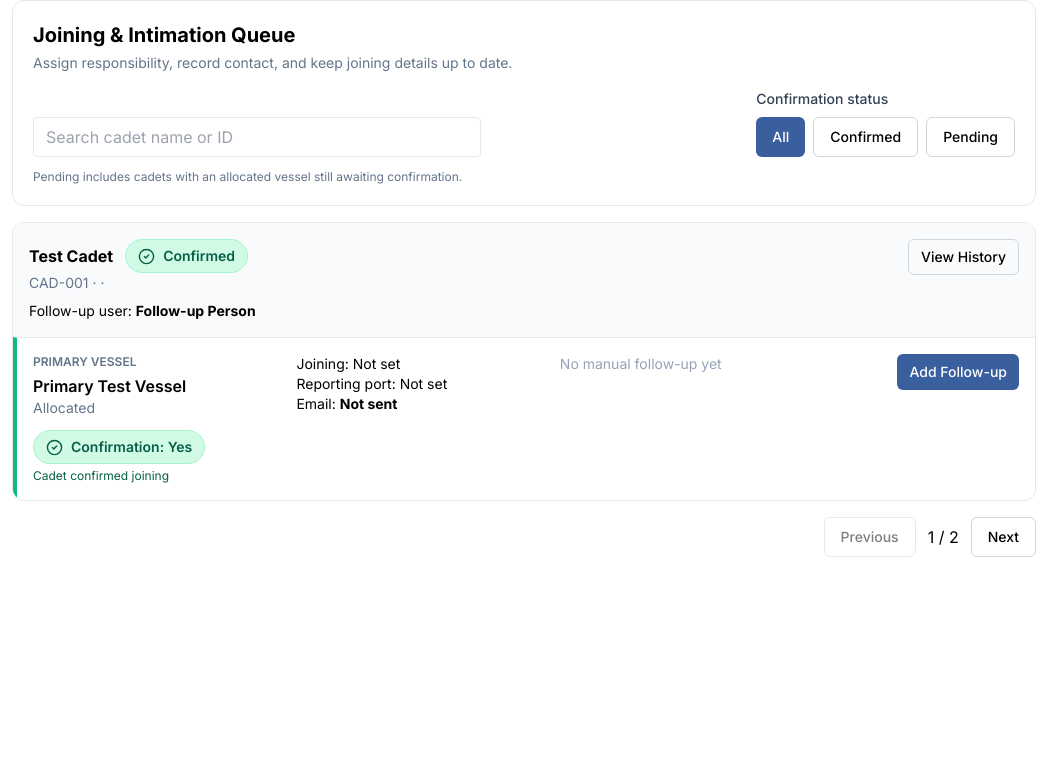
Test: filters across pages while retaining search and assignment scope (mine=false)
Expected: the heading "Test Cadet" is shown, [29,244,113,268]
Type "CAD" into the field named "Search follow-up cadets" at (257, 137), box [33,117,481,157]
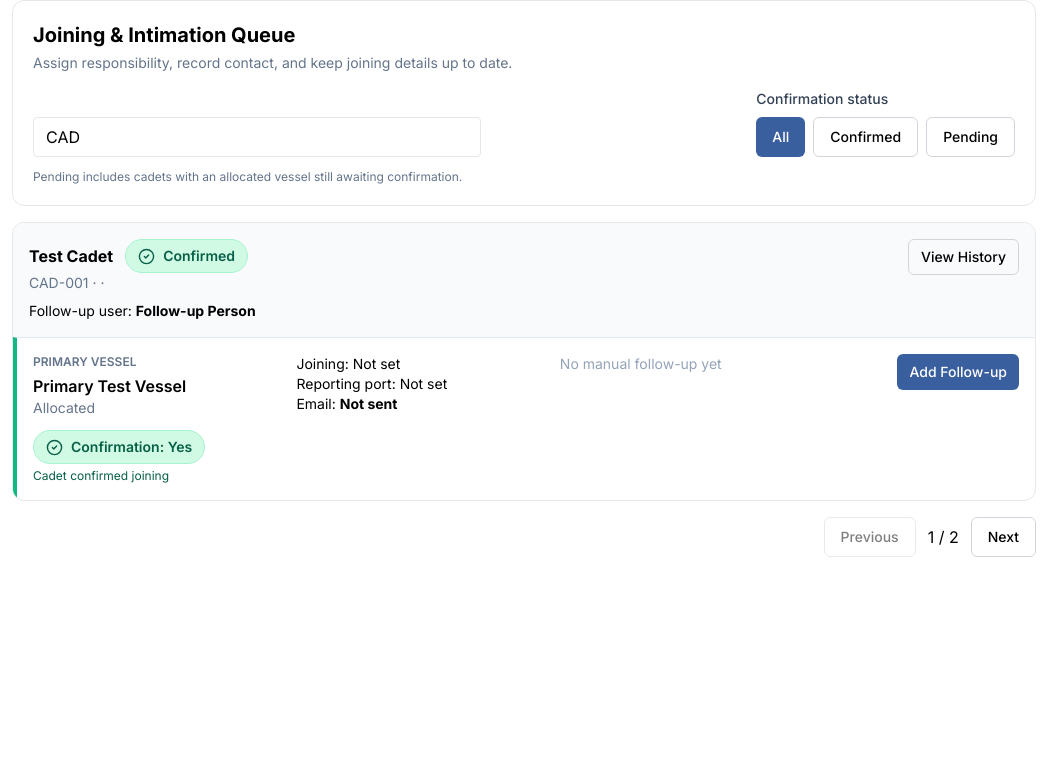
Click the button "Next" at (1003, 537), box [971,517,1036,557]
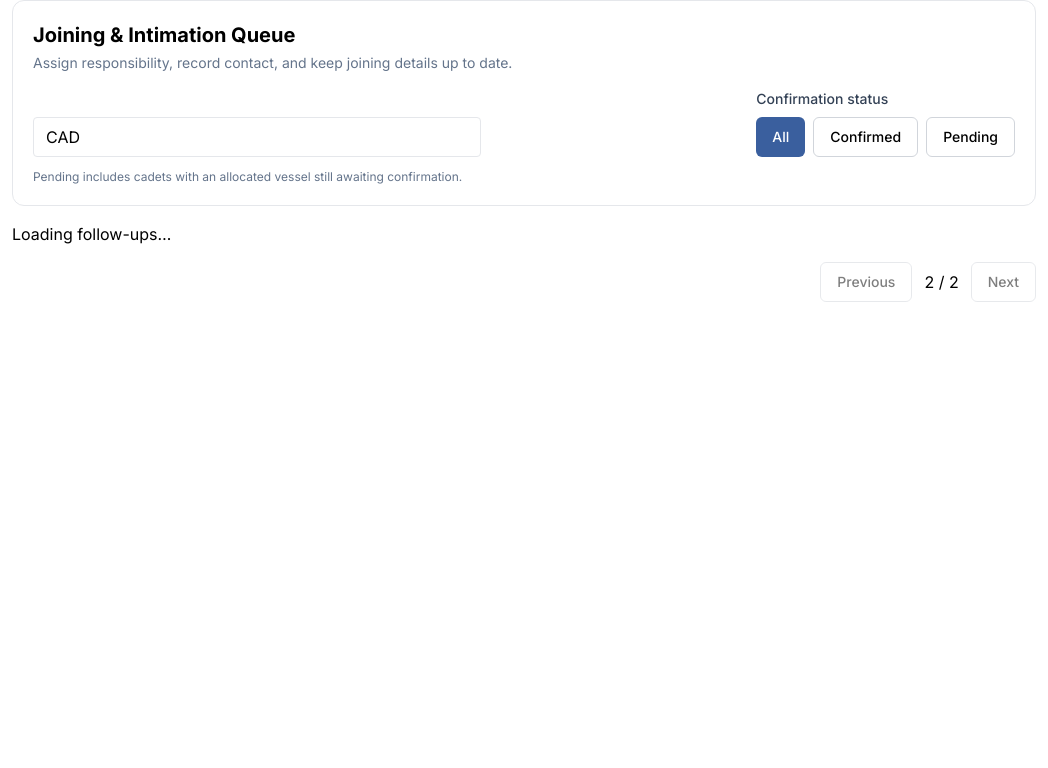
Expected: the text "2 / 2" is shown, [924,270,959,294]
Click the button "Confirmed" at (866, 137), box [813,117,918,157]
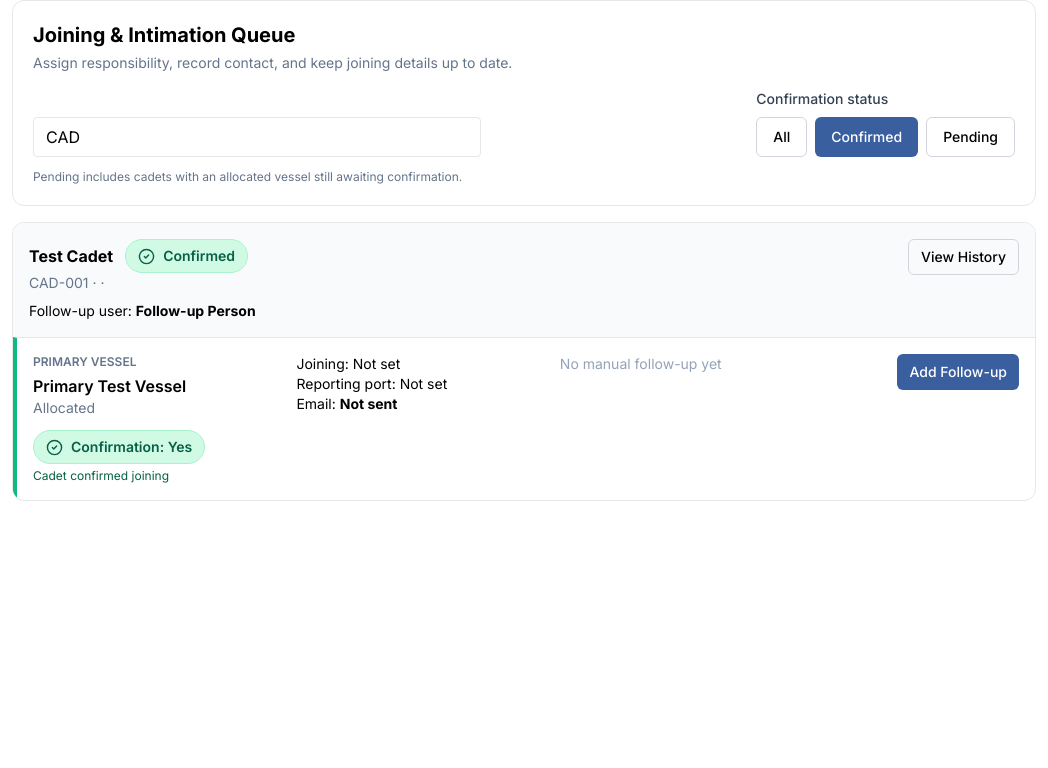
Expected: the text "Confirmation: Yes" is shown, [33,430,205,464]
Expected: the button "Next" is gone
Click the button "Pending" at (971, 137), box [926,117,1015,157]
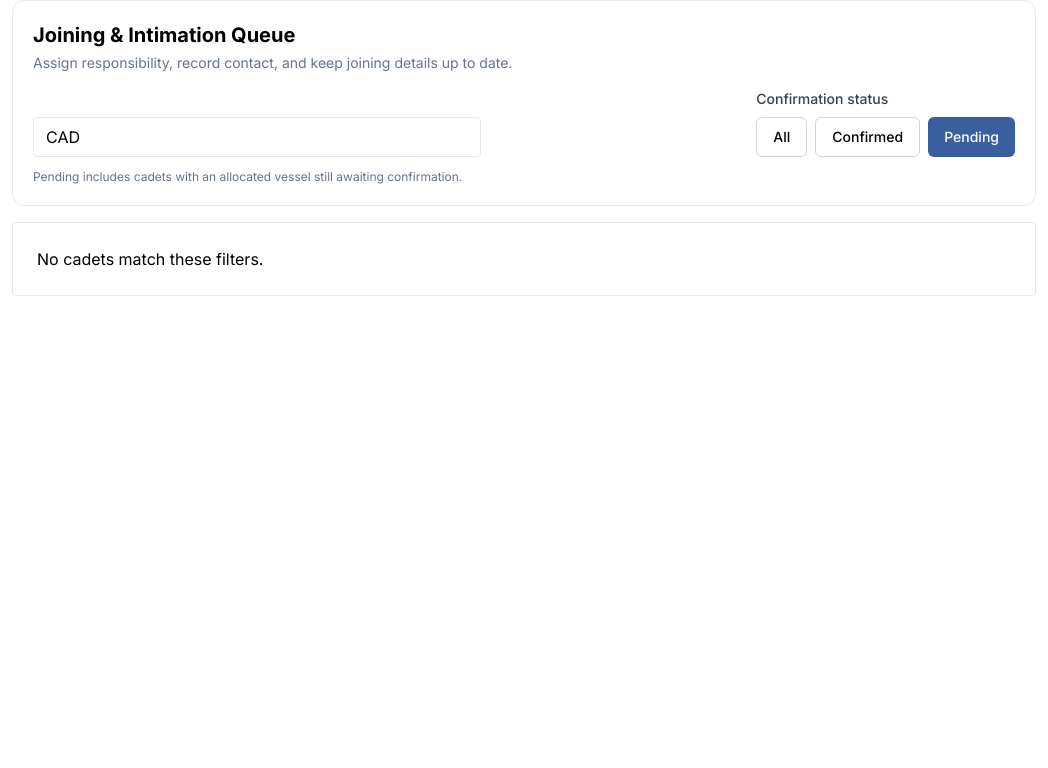
Expected: the text "No cadets match these filters." is shown, [12,222,1036,296]
Expected: the heading "Test Cadet" is gone
Click the button "All" at (782, 137), box [756,117,807,157]
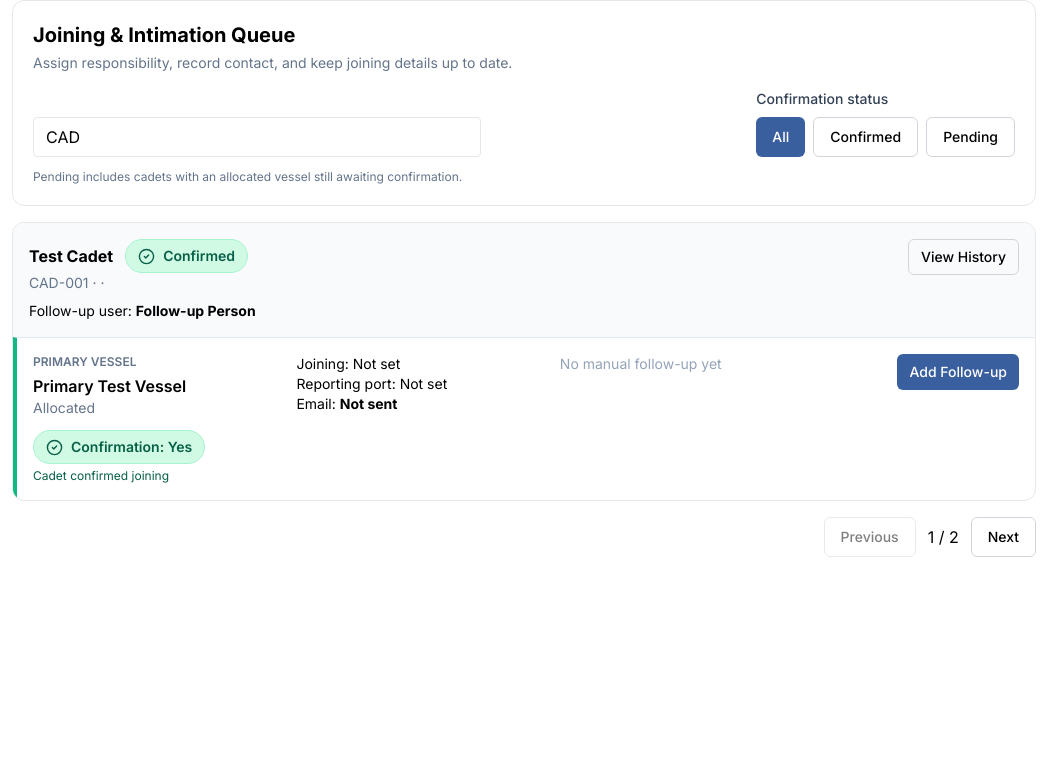
Expected: the heading "Test Cadet" is shown, [29,244,113,268]
Expected: the text "1 / 2" is shown, [928,525,959,549]
